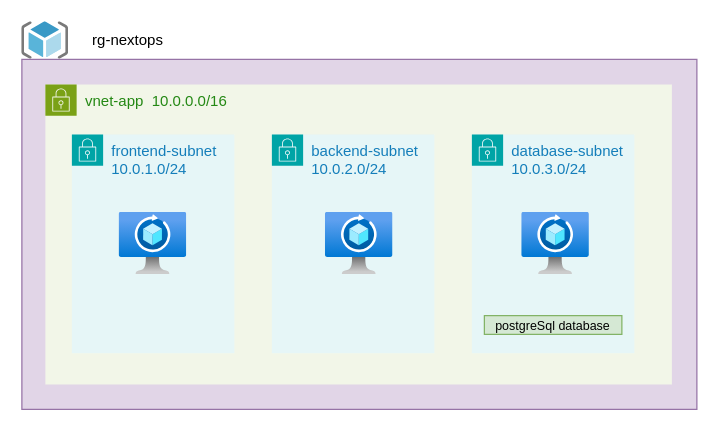
The diagram is 719 pixels wide and 431 high, and some of its shapes have lost their labels. Each missing label, with the box of its shape:
backend-vm: (325, 212, 392, 274)
database-vm: (521, 212, 589, 274)
frontend-vm: (119, 212, 186, 274)
